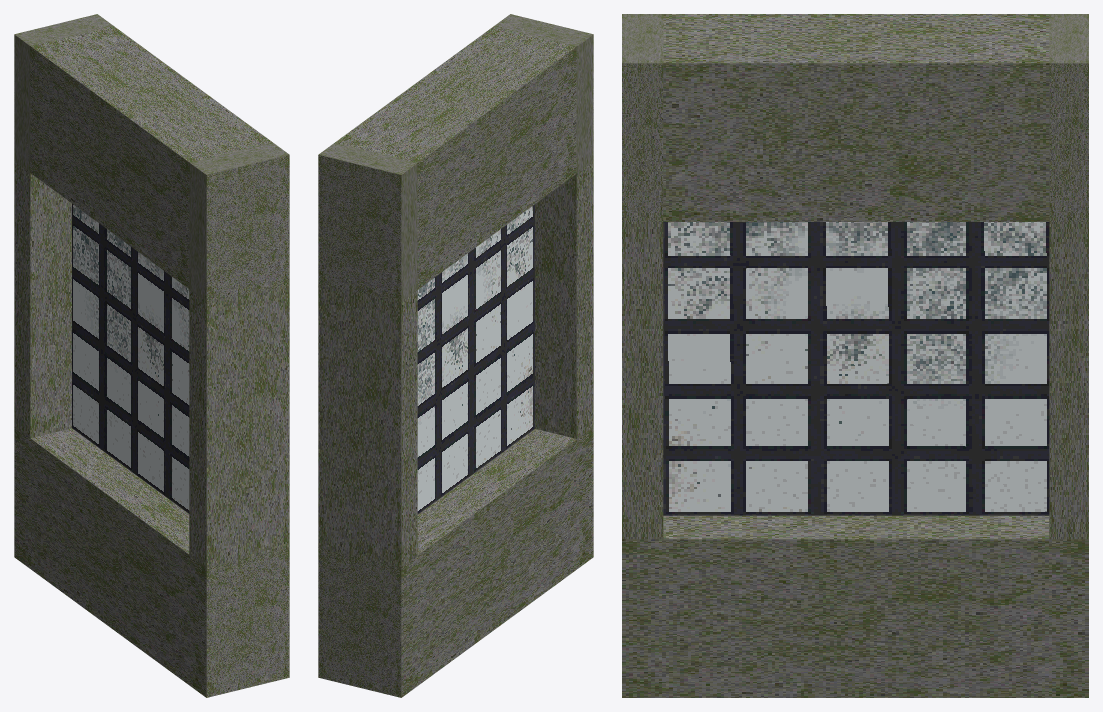
The model's file is Windown_green_concrete-col.glb.
The picture shows the model from 3 angles, left to right: view 1: azimuth 30°, elevation 25°; view 2: azimuth 150°, elevation 25°; view 3: azimuth 270°, elevation 25°; orthographic projection. The views are drawn at different scales.
Parts seen in each view (by area): view 1: Windown_green_concrete-col; view 2: Windown_green_concrete-col; view 3: Windown_green_concrete-col.
Boxes of the visible parts, x1,y1,x2,y2 form: Windown_green_concrete-col: (14,14,289,697); Windown_green_concrete-col: (318,14,593,697); Windown_green_concrete-col: (622,14,1088,697).
Size of the model in its own units: 0.5 by 3 by 2.
Materials: 1 (1 with a texture image).
